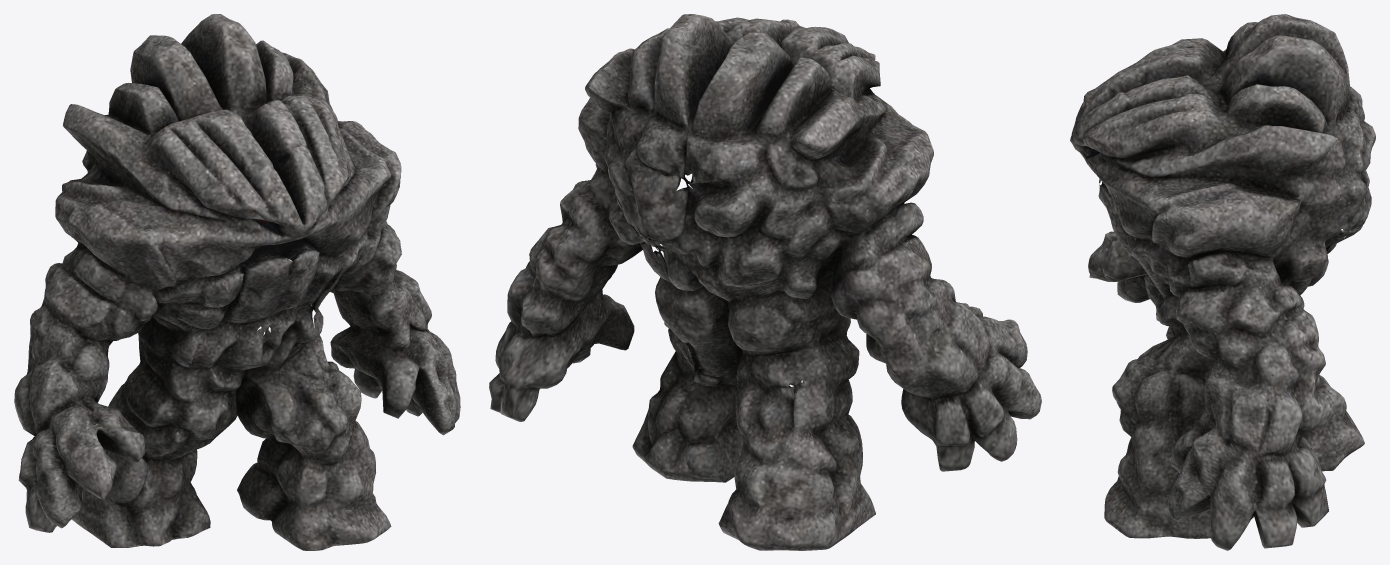
The model's file is MZ4250 - Elemental, Earth_alt.glb.
The picture shows the model from 3 angles, left to right: view 1: azimuth 30°, elevation 25°; view 2: azimuth 150°, elevation 25°; view 3: azimuth 270°, elevation 25°; orthographic projection. The views are drawn at different scales.
Visible parts, largest first — view 1: Square.001; view 2: Square.001; view 3: Square.001.
Boxes of the visible parts, left/top/right/bottom form: Square.001: left=14, top=14, right=460, bottom=550; Square.001: left=489, top=14, right=1041, bottom=550; Square.001: left=1070, top=14, right=1375, bottom=550.
Size of the model in its own units: 1.6 by 1.56 by 0.9413.
1 material, 1 textured.
